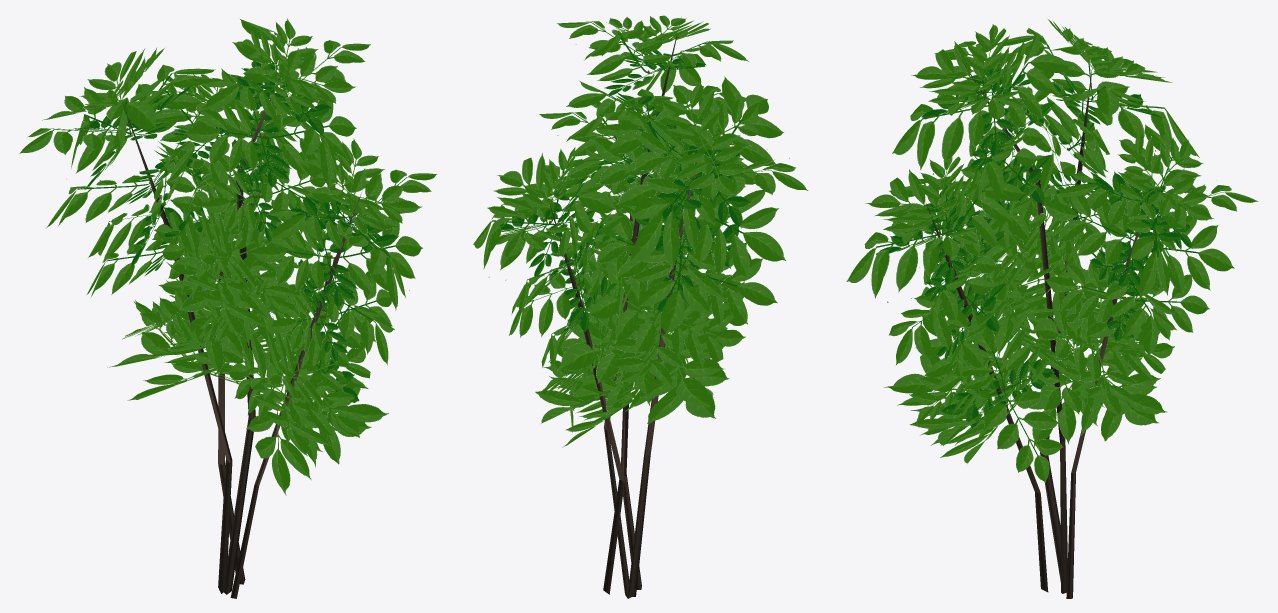
Rendered from PT_Elderberry_04.fbx.
3 renders of one model, left to right at view 1: azimuth 30°, elevation 25°; view 2: azimuth 150°, elevation 25°; view 3: azimuth 270°, elevation 25°, orthographic. The views are drawn at different scales.
Parts seen in each view (by area): view 1: PT_Elderberry_04_LOD0; view 2: PT_Elderberry_04_LOD0; view 3: PT_Elderberry_04_LOD0.
Part boxes in pixels (bbox=[...]): PT_Elderberry_04_LOD0: bbox=[19, 18, 437, 598]; PT_Elderberry_04_LOD0: bbox=[473, 15, 808, 598]; PT_Elderberry_04_LOD0: bbox=[846, 19, 1258, 598].
Size of what is drawn, in the model's own units: 167 by 261 by 176.
